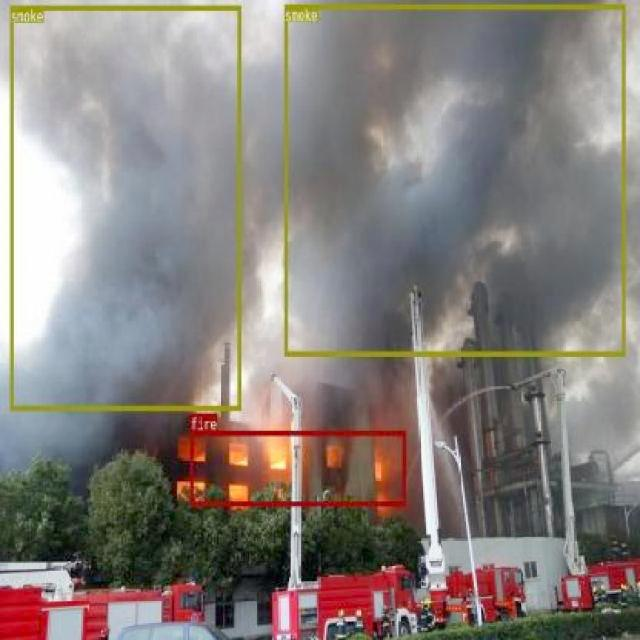fire: (189, 430, 405, 506)
smoke: (284, 2, 625, 356), (9, 4, 240, 410)
